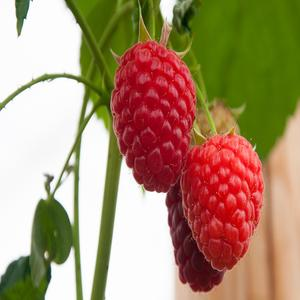raspb: (108, 36, 265, 294)
